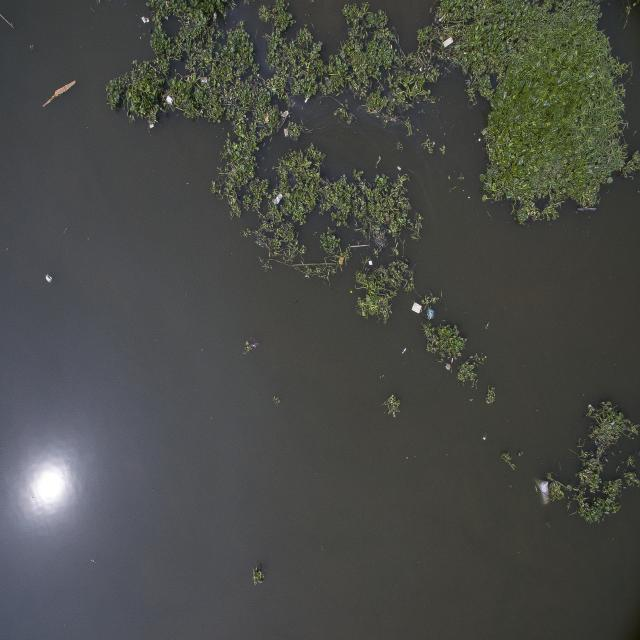plastic: (406, 290, 440, 337), (528, 476, 561, 514), (267, 184, 291, 216), (441, 30, 460, 59), (137, 9, 156, 32), (163, 89, 178, 118), (145, 114, 164, 135), (366, 256, 377, 274)
